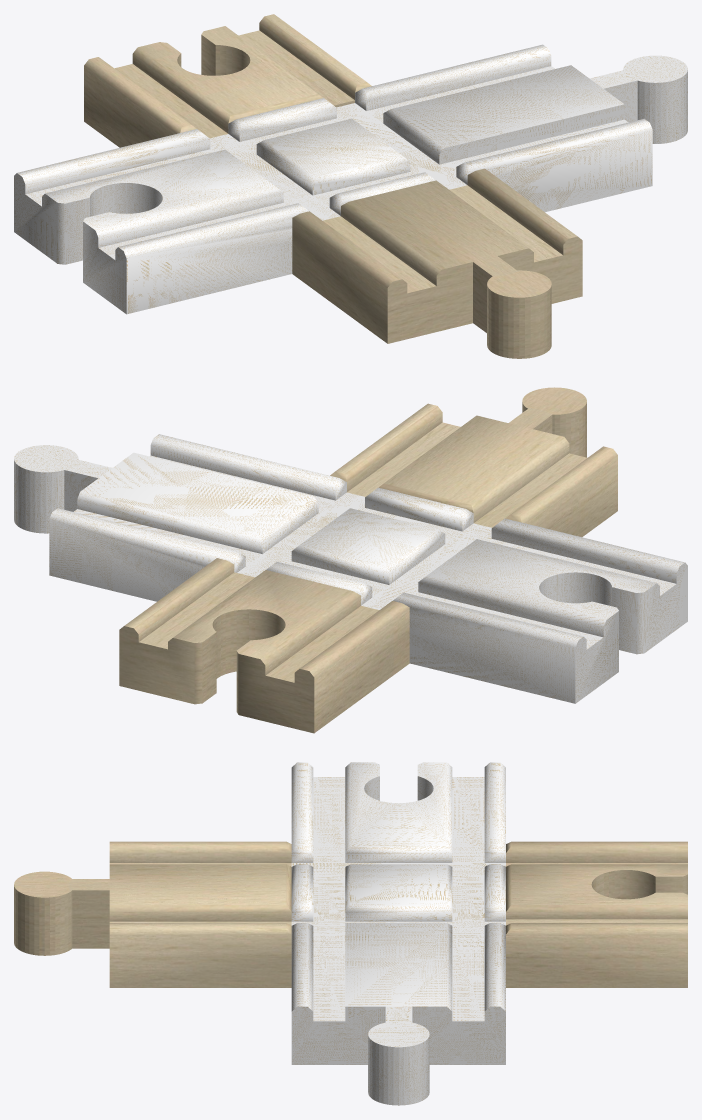
3 renders of one model, top to bottom at view 1: azimuth 30°, elevation 25°; view 2: azimuth 150°, elevation 25°; view 3: azimuth 270°, elevation 25°, orthographic. The views are drawn at different scales.
Parts seen in each view (by area): view 1: group_0 (×2), group_1; view 2: group_0 (×2), group_1; view 3: group_0 (×2), group_1.
Part boxes in pixels (<box>): group_0 (×2): <box>14,44,687,314</box>; group_1: <box>84,14,582,358</box>; group_0 (×2): <box>14,434,687,703</box>; group_1: <box>119,387,617,733</box>; group_0 (×2): <box>291,762,505,1105</box>; group_1: <box>14,841,687,987</box>.
Size of the model in its own units: 4.96 by 4.96 by 0.4724.
